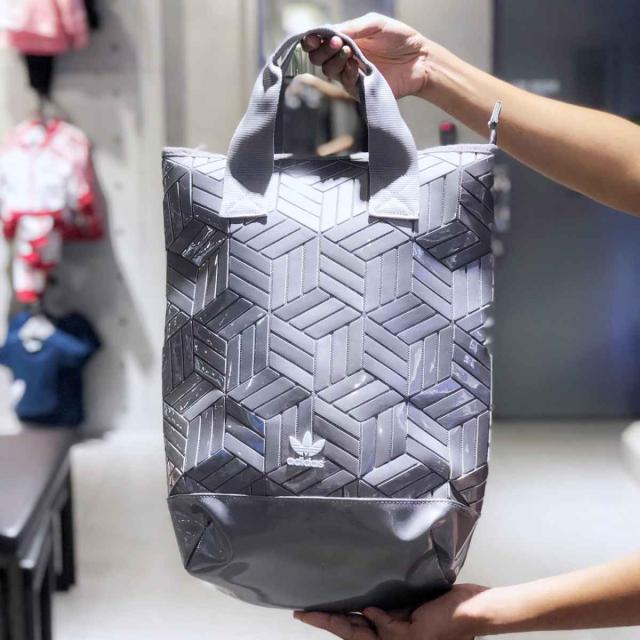Handbag: (150, 14, 506, 622)
